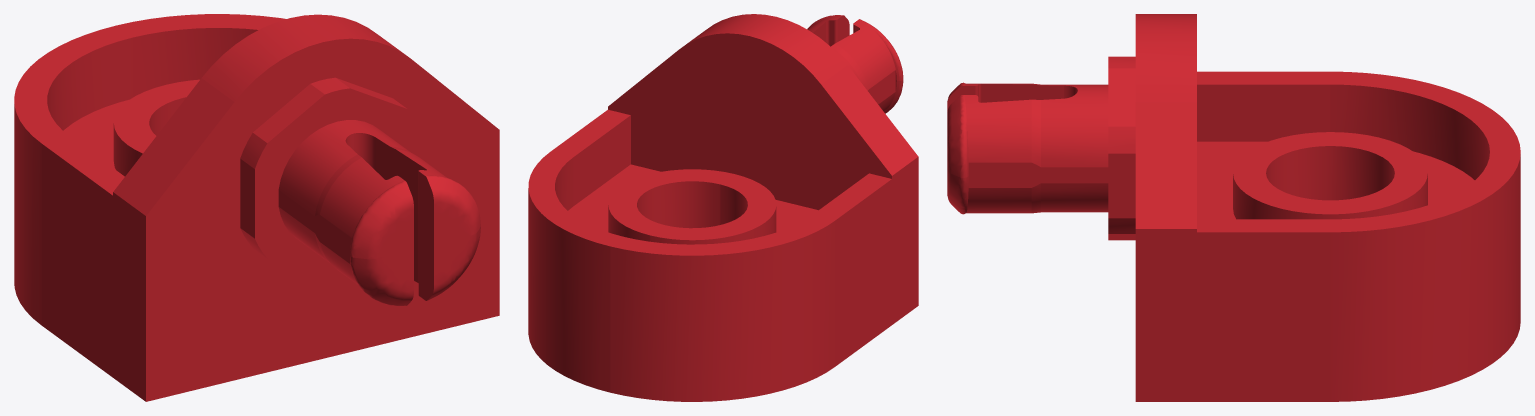
File: 1x Wide, 1x1 Corner Connector (Weak) (228-2500-2288).glb
3 renders of one model, left to right at view 1: azimuth 30°, elevation 25°; view 2: azimuth 150°, elevation 25°; view 3: azimuth 270°, elevation 25°, orthographic. The views are drawn at different scales.
Parts seen in each view (by area): view 1: 1x Wide, 1x1 Corner Connector (Weak) (228-2500-2288); view 2: 1x Wide, 1x1 Corner Connector (Weak) (228-2500-2288); view 3: 1x Wide, 1x1 Corner Connector (Weak) (228-2500-2288).
Part boxes in pixels (bbox=[...]): 1x Wide, 1x1 Corner Connector (Weak) (228-2500-2288): bbox=[14, 14, 499, 401]; 1x Wide, 1x1 Corner Connector (Weak) (228-2500-2288): bbox=[528, 14, 918, 401]; 1x Wide, 1x1 Corner Connector (Weak) (228-2500-2288): bbox=[947, 14, 1520, 401].
Size of the model in its own units: 0.4882 by 0.4177 by 0.7358.
